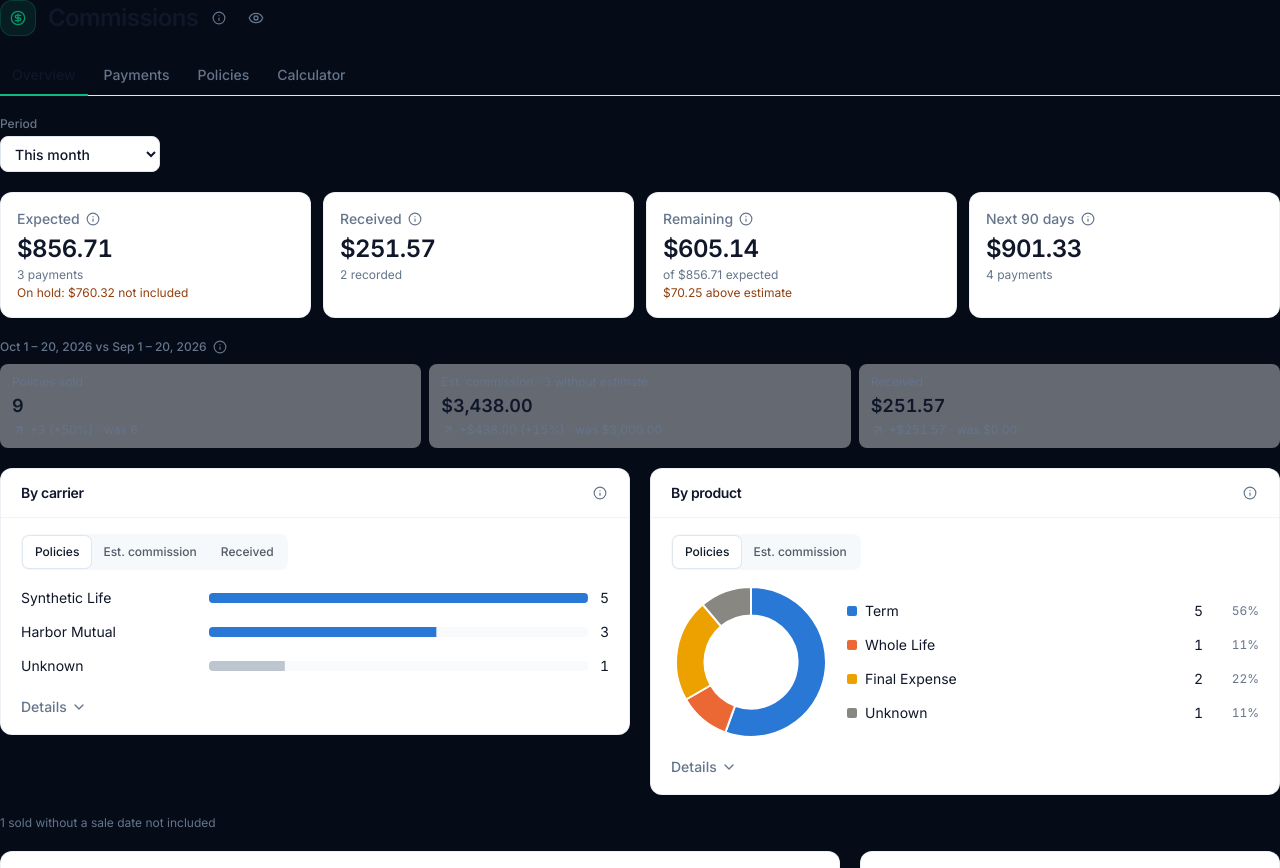
Commissions page › reports without a calculator grid; only the Calculator tab needs one
Expected: the link "Expected" is shown, [17,209,80,229]
Click the link "Calculator" at {"x": 311, "y": 74}, box [277,66,346,83]
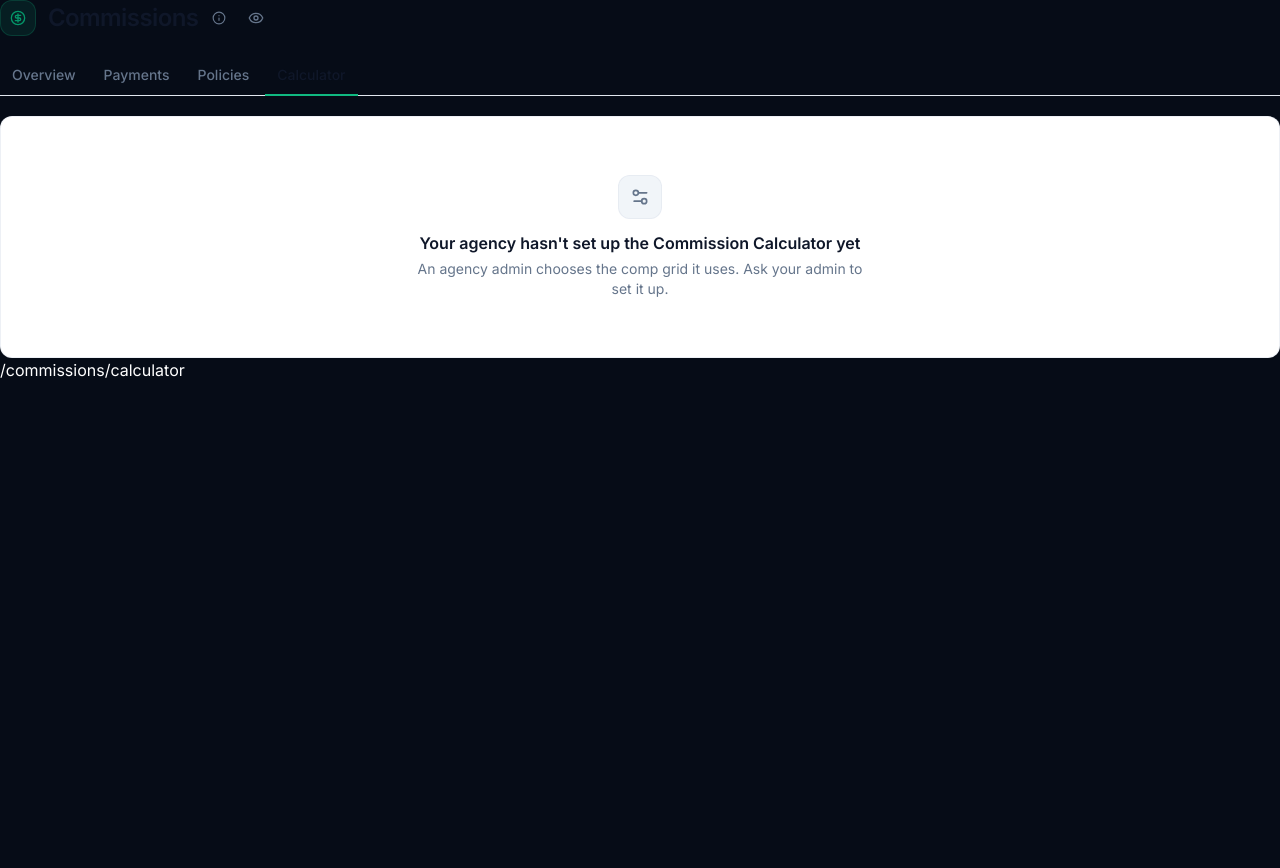
Result: the text "Your agency hasn't set up the Commission Calculator yet" is shown at [420,233,860,253]
Click the link "Overview" at {"x": 44, "y": 74}, box [12,66,76,83]
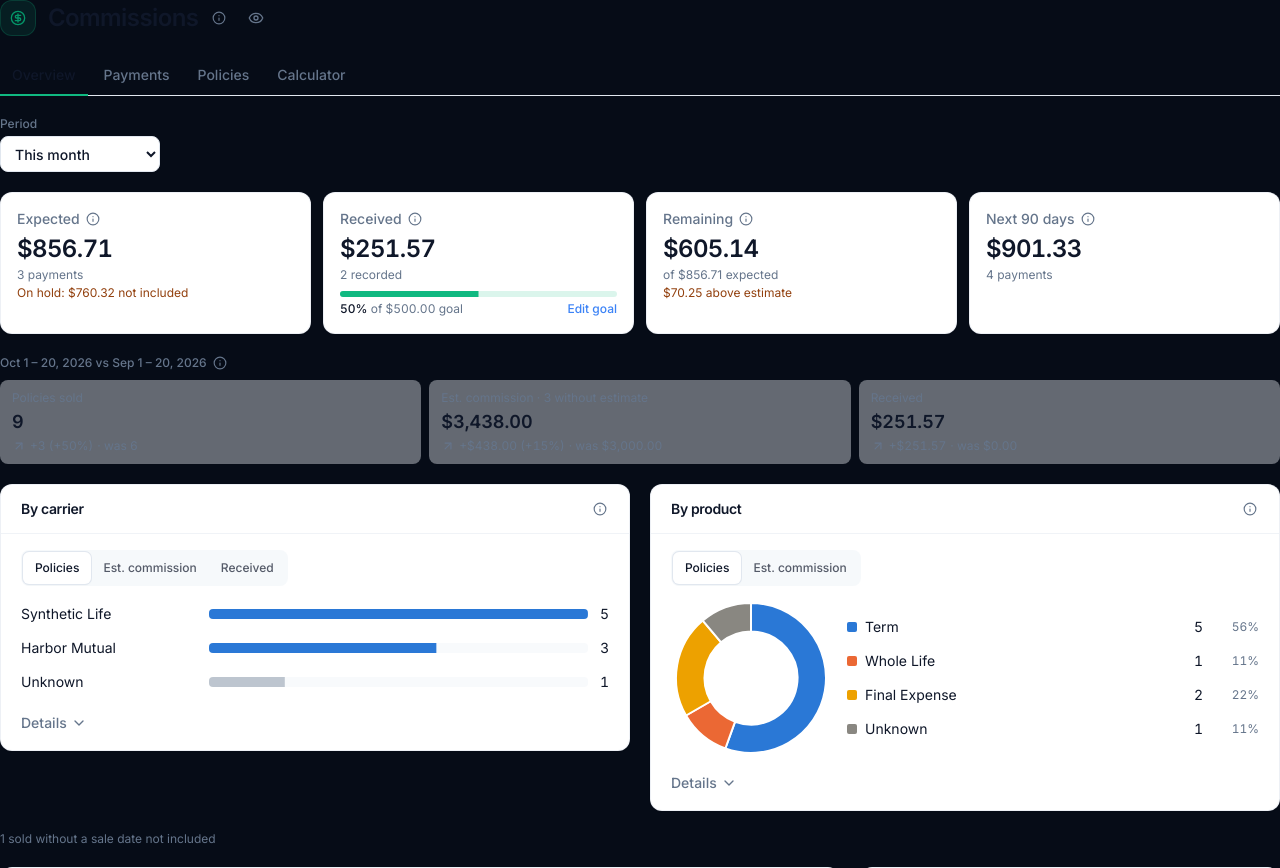
Result: the link "Expected" is shown at [17,209,80,229]
